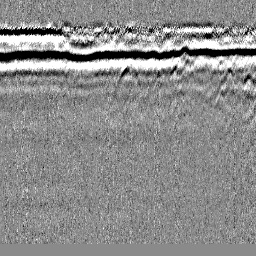cavity: (115, 55, 141, 87)
